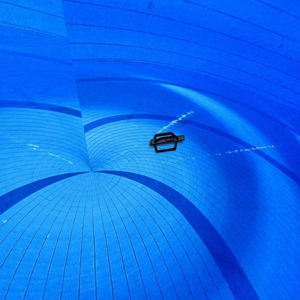submarine: (148, 133, 192, 158)
